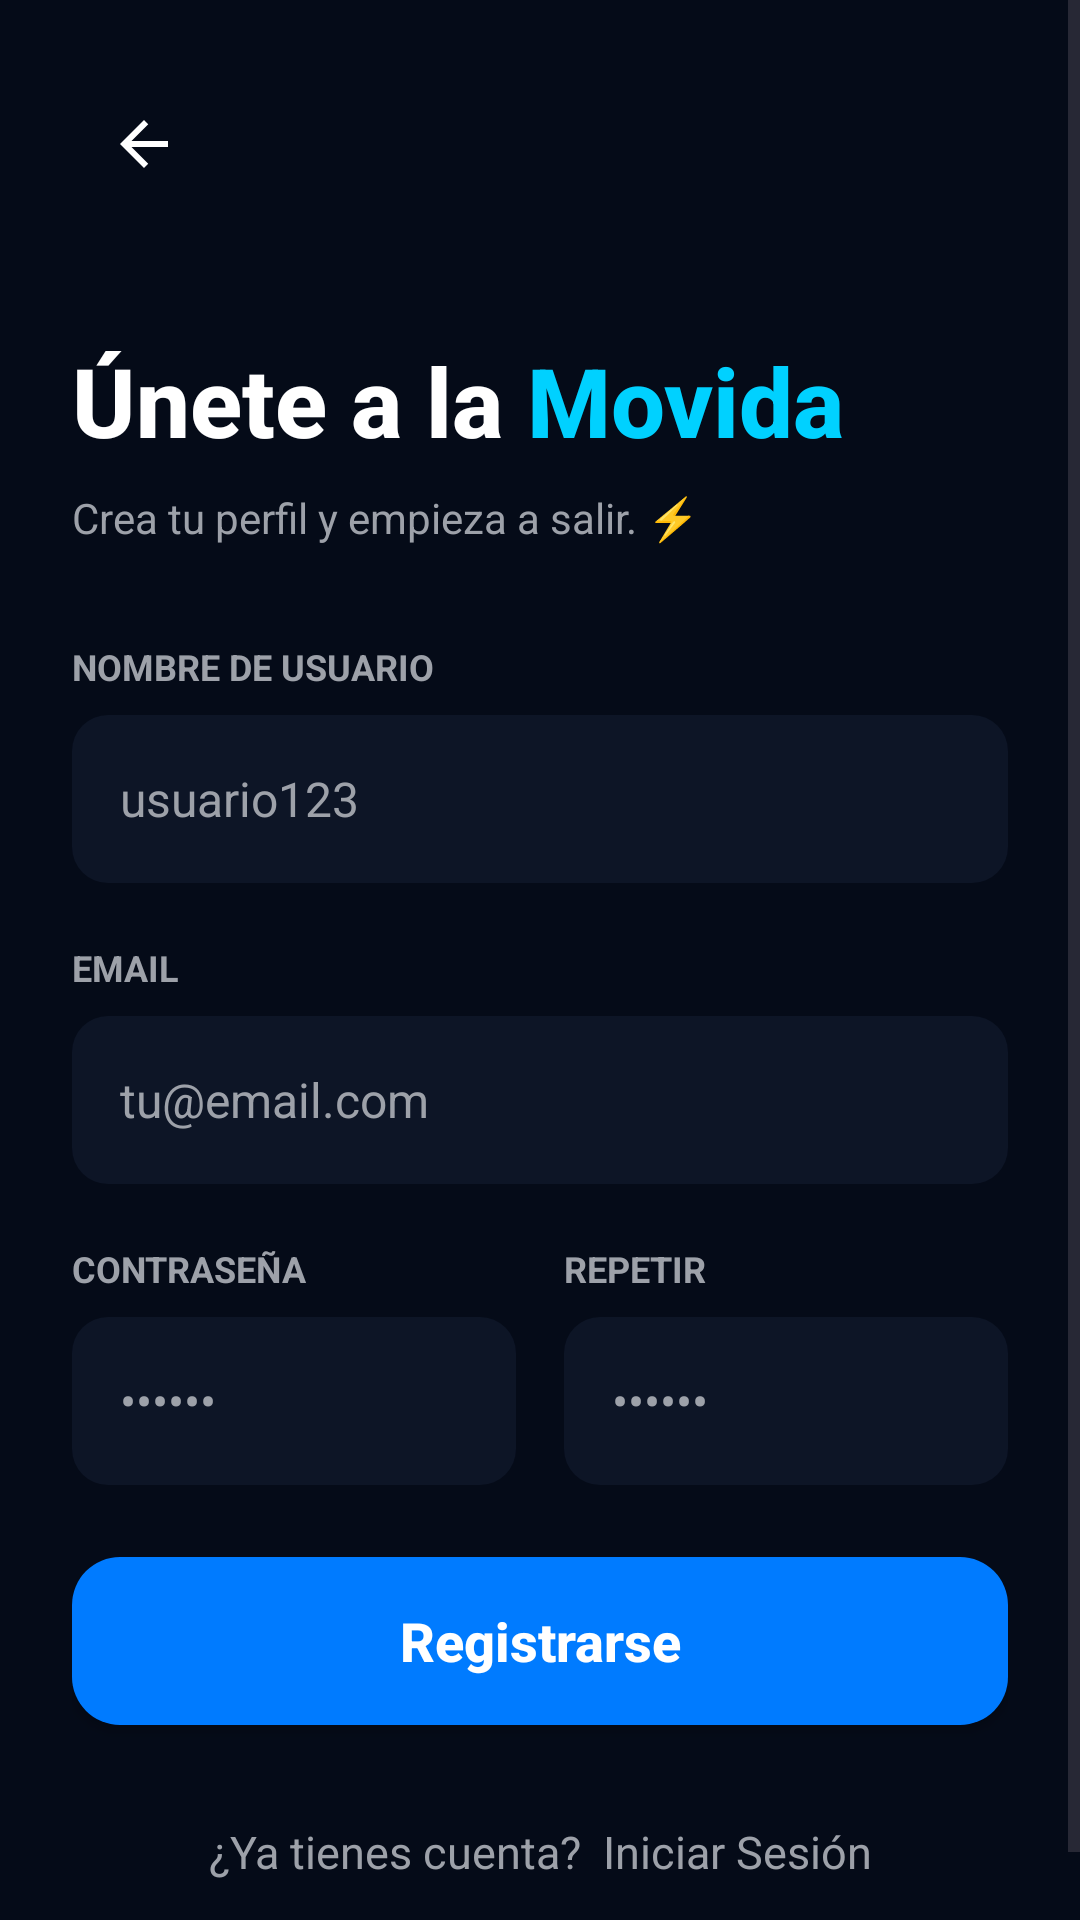

Icon click points for this 1080×1920 phone screenshot, format [x,y]:
Volver: [144,144]
